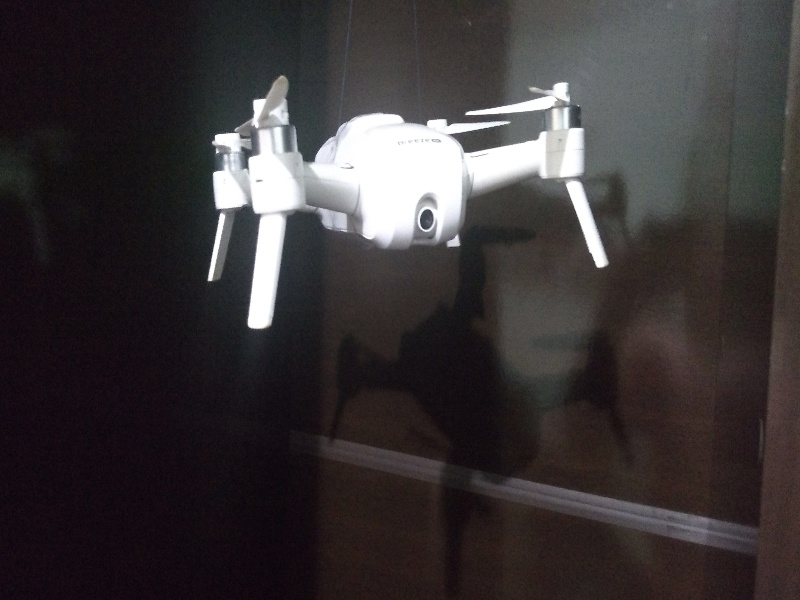drone: (192, 63, 628, 335)
